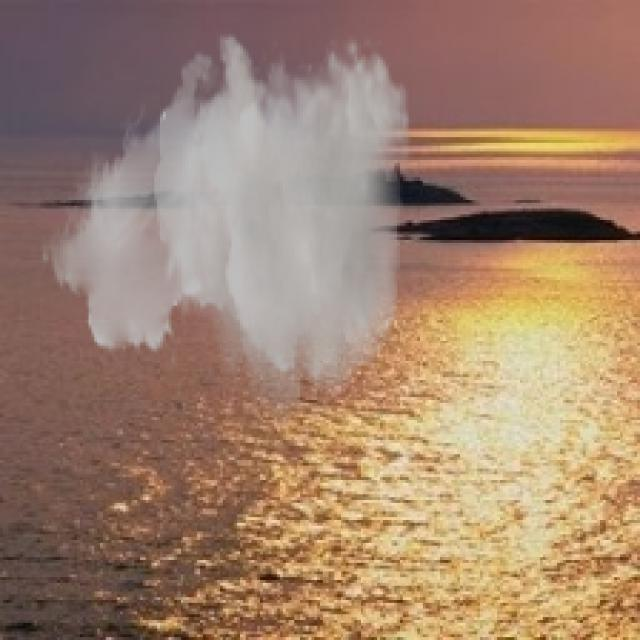Smoke: (39, 31, 412, 440)
